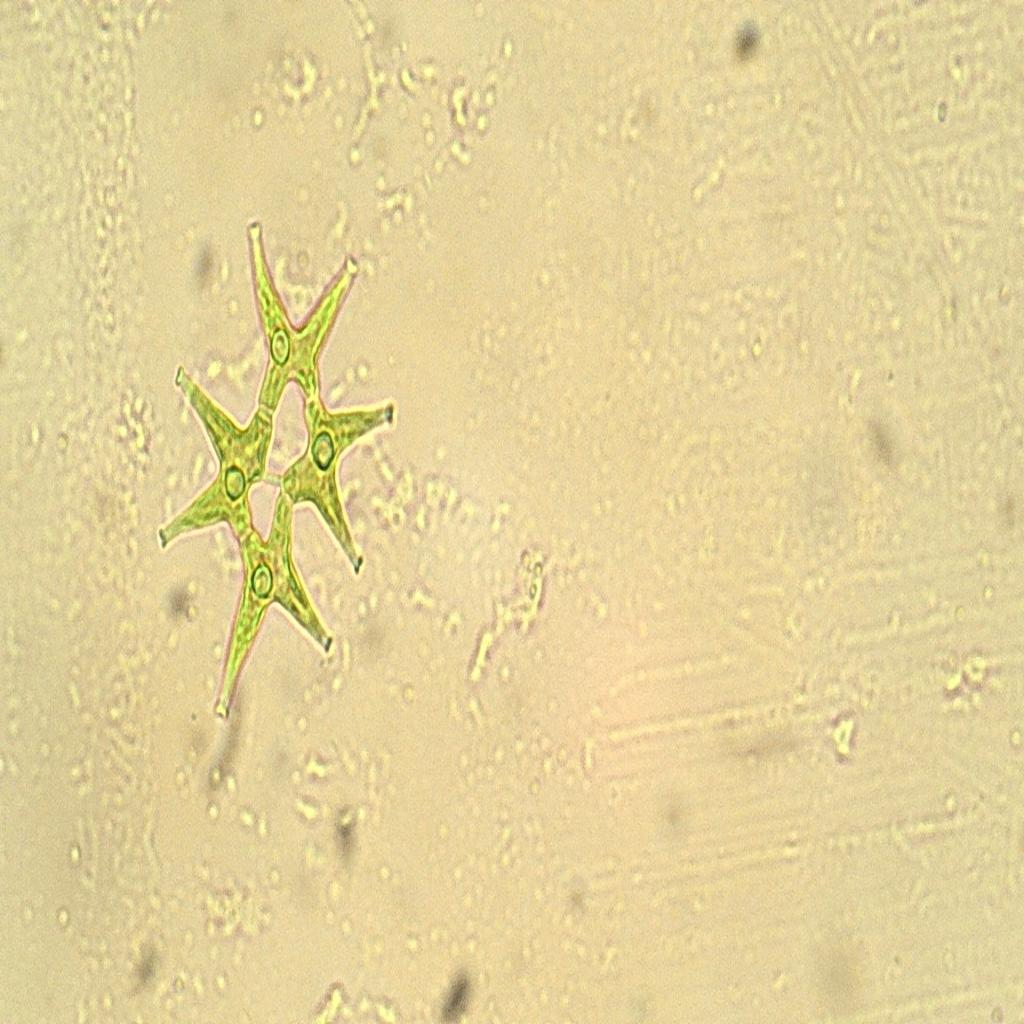Pediastrum_75FO: (151, 217, 406, 743)
